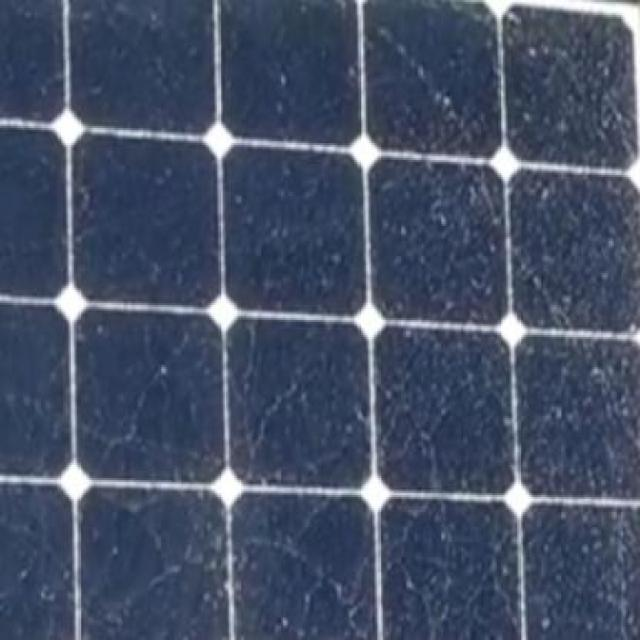cracked: (1, 1, 638, 636)
